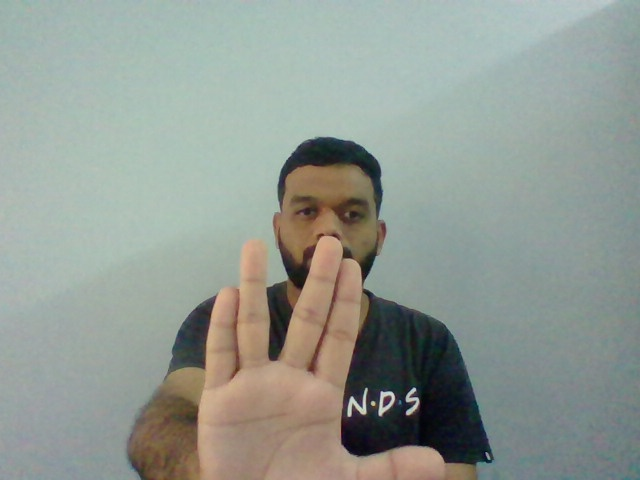Live long and prosper: (202, 235, 441, 480)
